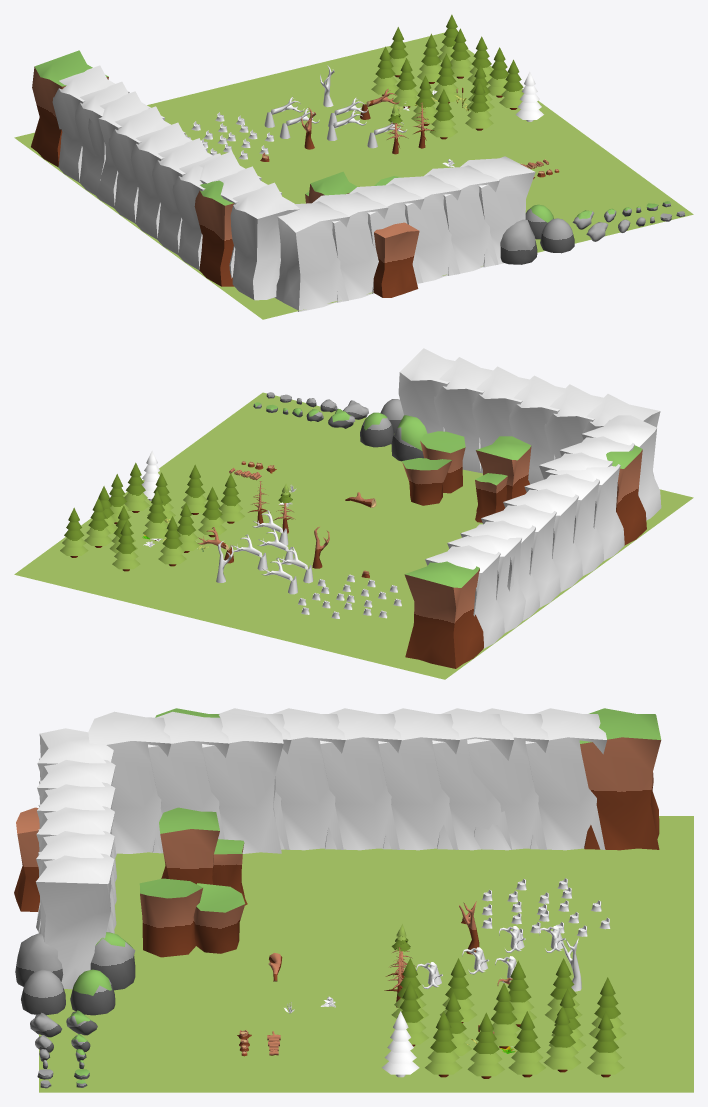
The picture shows the model from 3 angles, top to bottom: view 1: azimuth 30°, elevation 25°; view 2: azimuth 150°, elevation 25°; view 3: azimuth 270°, elevation 25°; orthographic projection. The views are drawn at different scales.
Visible parts, largest first — view 1: Plane, Ground.022, Ground.016, Ground.018, Ground.017, Ground.021, Ground.019, Ground, Ground.013, Ground.010, Ground.003, Ground.009 (+26 smaller); view 2: Plane, Ground.013, Ground.004, Ground.018, Ground.001, Ground.020, Ground.010, Ground.012, Ground.009, Ground.019, Ground.007, Ground.017 (+23 smaller); view 3: Plane, Ground.013, Ground.014, Ground.010, Ground.012, Ground.009, Ground.019, Ground.007, Ground.016, Ground.001, Ground.011, Ground.008 (+28 smaller).
Part boxes in pixels (x1=…): Plane: x1=14, y1=32, x2=693, y2=319; Ground.022: x1=274, y1=201, x2=349, y2=311; Ground.016: x1=230, y1=182, x2=299, y2=300; Ground.018: x1=424, y1=165, x2=499, y2=275; Ground.017: x1=386, y1=174, x2=461, y2=283; Ground.021: x1=313, y1=192, x2=388, y2=302; Ground.019: x1=460, y1=156, x2=535, y2=267; Ground: x1=194, y1=180, x2=234, y2=286; Ground.013: x1=31, y1=50, x2=108, y2=166; Ground.010: x1=130, y1=122, x2=207, y2=239; Ground.003: x1=373, y1=222, x2=419, y2=297; Ground.009: x1=108, y1=106, x2=185, y2=222; Plane: x1=14, y1=392, x2=693, y2=679; Ground.013: x1=404, y1=561, x2=483, y2=668; Ground.004: x1=475, y1=436, x2=531, y2=522; Ground.018: x1=434, y1=357, x2=492, y2=472; Ground.001: x1=402, y1=431, x2=465, y2=505; Ground.020: x1=509, y1=375, x2=564, y2=484; Ground.010: x1=503, y1=488, x2=582, y2=592; Ground.012: x1=425, y1=545, x2=504, y2=648; Ground.009: x1=481, y1=504, x2=560, y2=607; Ground.019: x1=398, y1=348, x2=454, y2=433; Ground.007: x1=524, y1=473, x2=603, y2=576; Ground.017: x1=472, y1=366, x2=529, y2=473; Plane: x1=39, y1=816, x2=693, y2=1092; Ground.013: x1=579, y1=708, x2=661, y2=850; Ground.014: x1=202, y1=712, x2=283, y2=853; Ground.010: x1=320, y1=708, x2=401, y2=850; Ground.012: x1=525, y1=708, x2=606, y2=850; Ground.009: x1=378, y1=708, x2=459, y2=850; Ground.019: x1=36, y1=851, x2=114, y2=989; Ground.007: x1=273, y1=708, x2=345, y2=850; Ground.016: x1=88, y1=711, x2=171, y2=853; Ground.001: x1=139, y1=878, x2=245, y2=957; Ground.011: x1=467, y1=708, x2=548, y2=850; Ground.008: x1=432, y1=708, x2=513, y2=850.
Size of the model in its own units: 56.18 by 11.27 by 58.32.
Materials: 62 (16 with a texture image).
